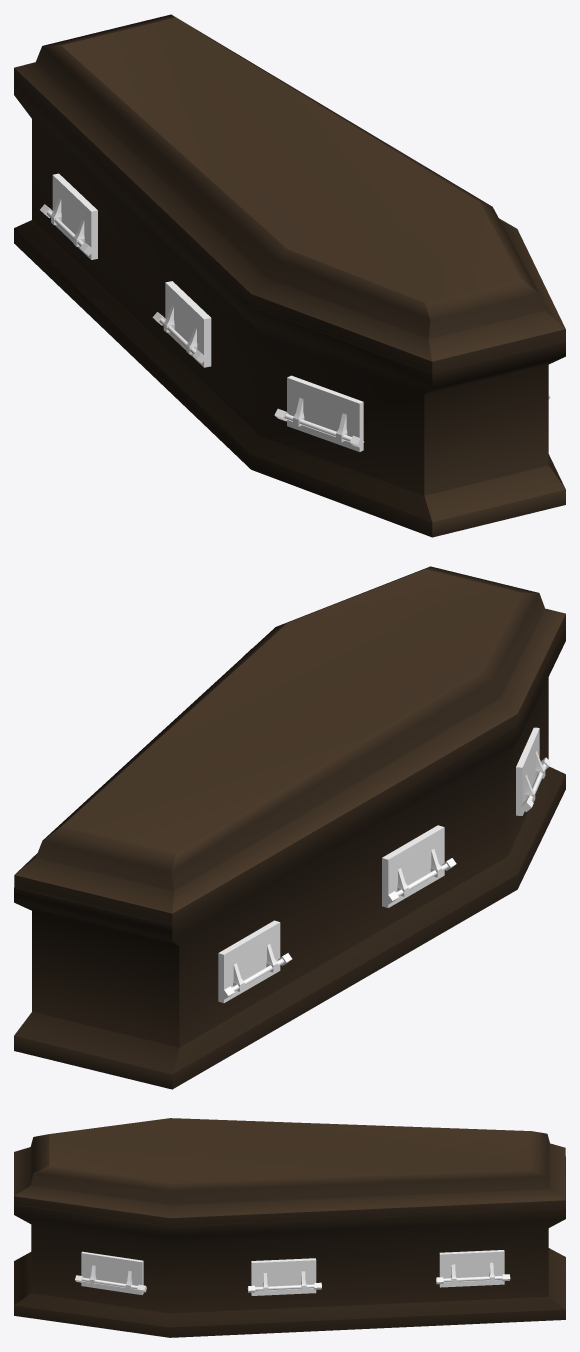
The model's file is human-containers-coffin_v2.glb.
3 views of the same model, one above another, from view 1: azimuth 30°, elevation 25°; view 2: azimuth 150°, elevation 25°; view 3: azimuth 270°, elevation 25° (orthographic). The views are drawn at different scales.
Parts seen in each view (by area): view 1: Coffin_v2; view 2: Coffin_v2; view 3: Coffin_v2.
Boxes of the visible parts, left/top/right/bottom form: Coffin_v2: left=14, top=14, right=565, bottom=537; Coffin_v2: left=14, top=566, right=565, bottom=1089; Coffin_v2: left=14, top=1118, right=565, bottom=1337.
Size of the model in its own units: 0.7584 by 0.5739 by 2.
